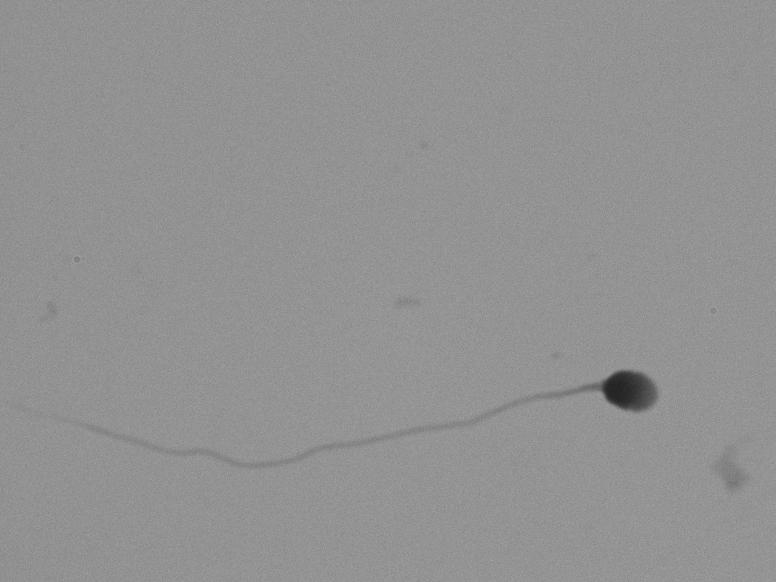Normal: (34, 258, 704, 531)
